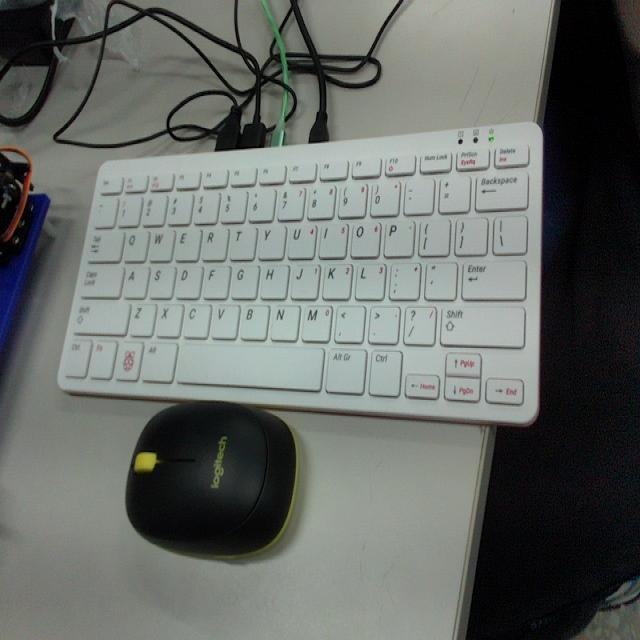keyboard: (61, 135, 532, 408)
